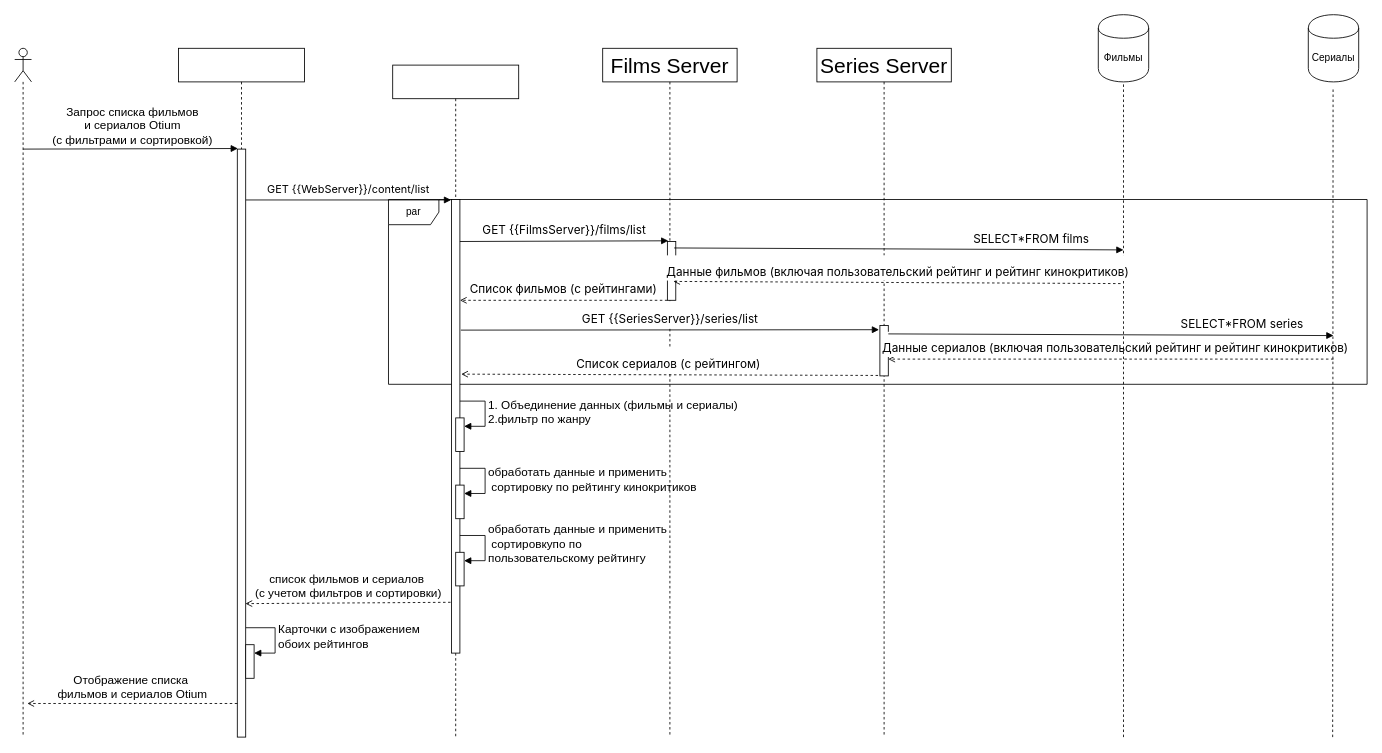
This 1382x753 diagram has some shape labels left out. Each missing label, with the box of its shape:
UI: Otium: (178, 47, 304, 737)
Web Server: (392, 64, 519, 737)
